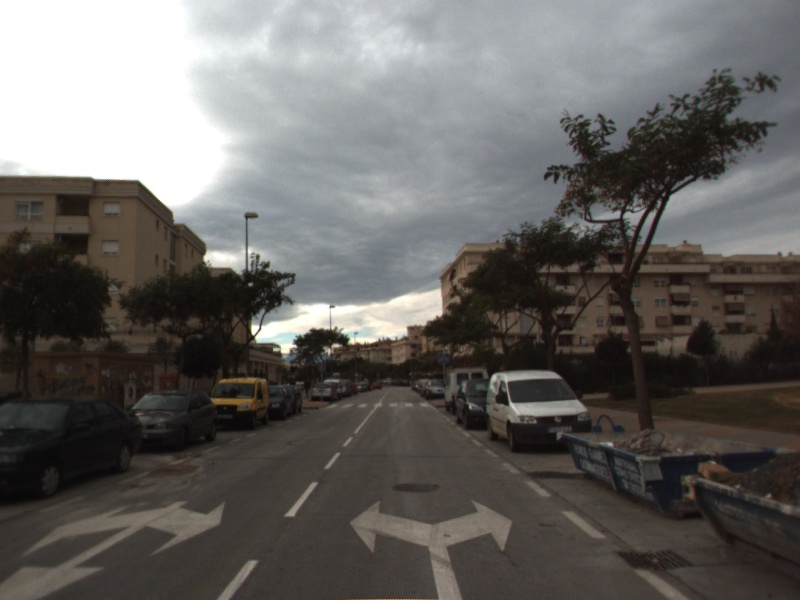LEFT_RIGHT: (346, 496, 517, 600)
